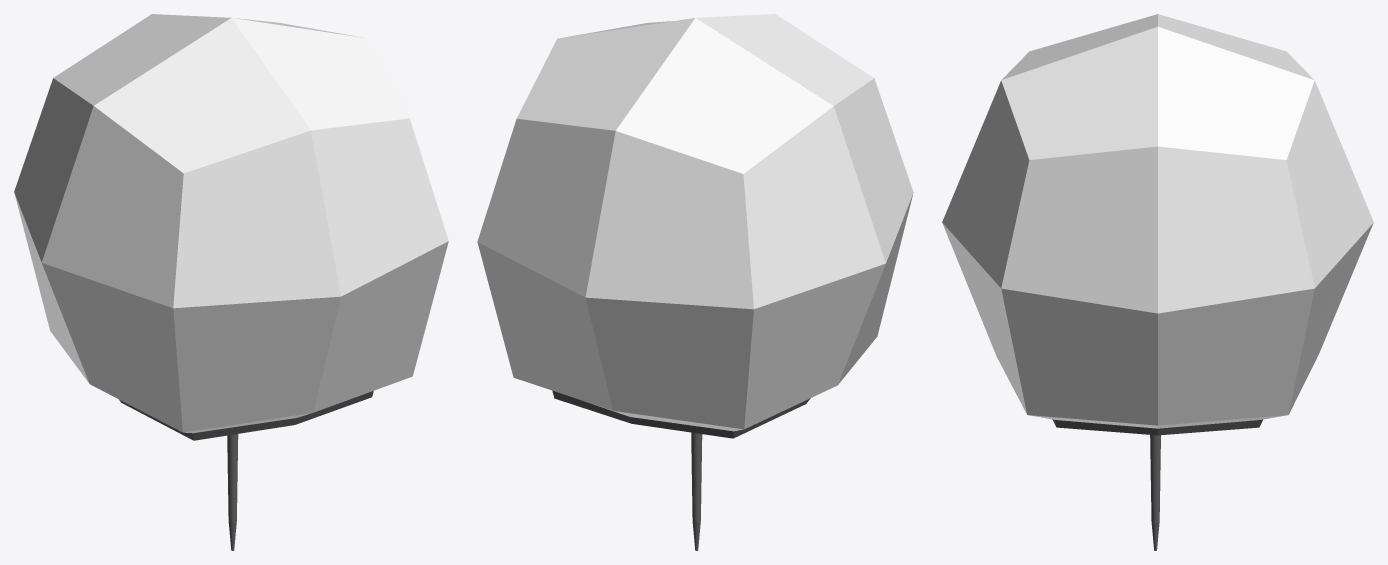
Rendered from EarRingModel.fbx.
3 views of the same model, side by side, from view 1: azimuth 30°, elevation 25°; view 2: azimuth 150°, elevation 25°; view 3: azimuth 270°, elevation 25° (orthographic).
Visible parts, largest first — view 1: EarRingModel; view 2: EarRingModel; view 3: EarRingModel.
Boxes of the visible parts, x1,y1,x2,y2 form: EarRingModel: [14, 14, 448, 550]; EarRingModel: [477, 14, 913, 550]; EarRingModel: [942, 14, 1373, 550].
Bounding box in the file's own units: 5.88 × 7.86 × 5.88.
